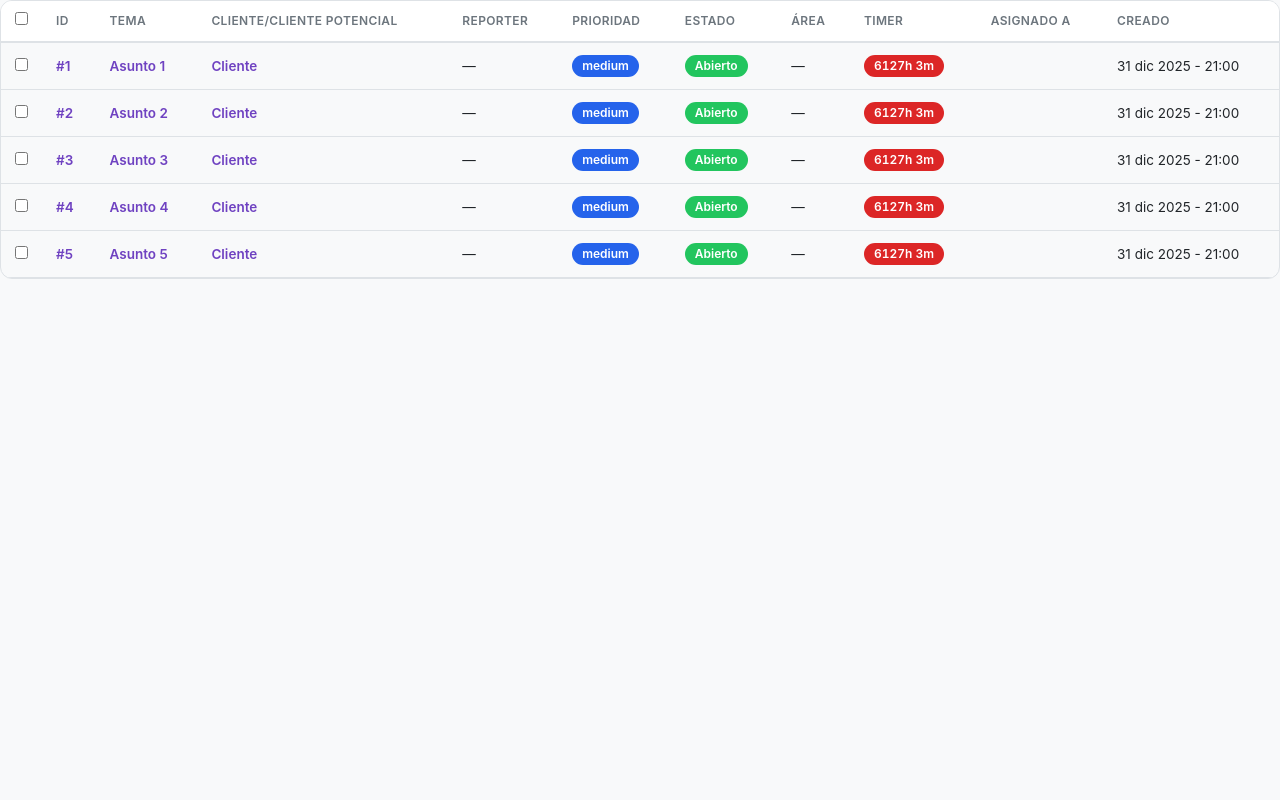
TicketsTableView — toast copy per action › Cambiar estado success → "N tickets actualizados"
Click the checkbox named "Seleccionar todos".
click(22, 18)  # box [15, 12, 28, 25]
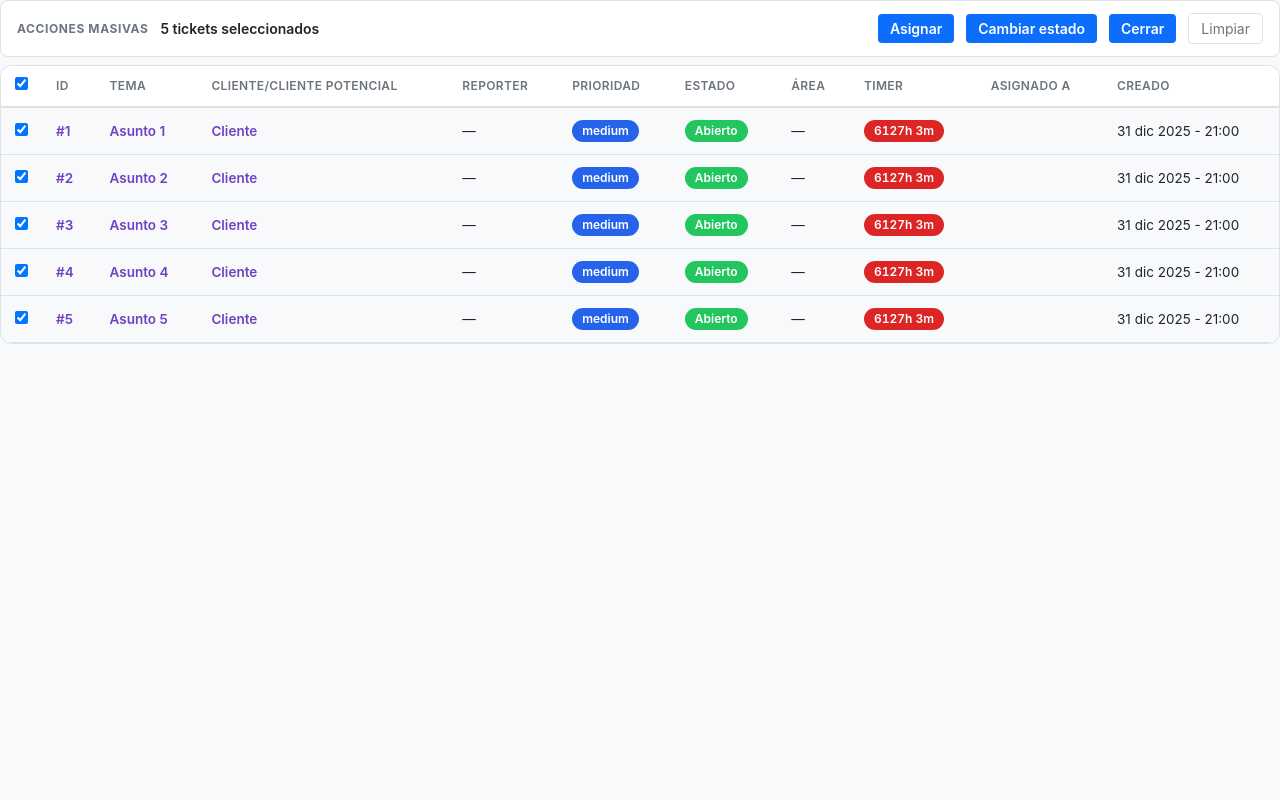
Click the button "Cambiar estado".
click(1032, 28)  # box [966, 14, 1097, 43]
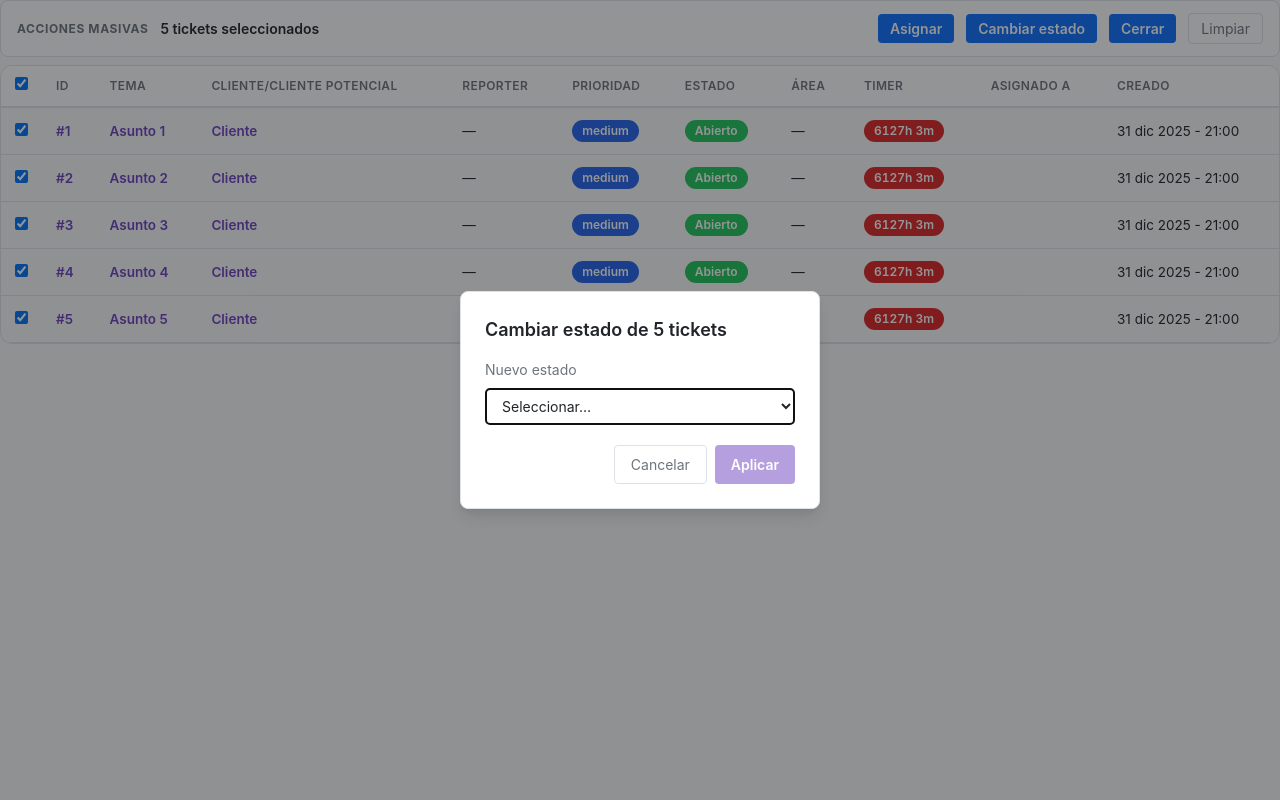
Select "Abierto" in the dropdown at (640, 406), box [485, 388, 795, 425]
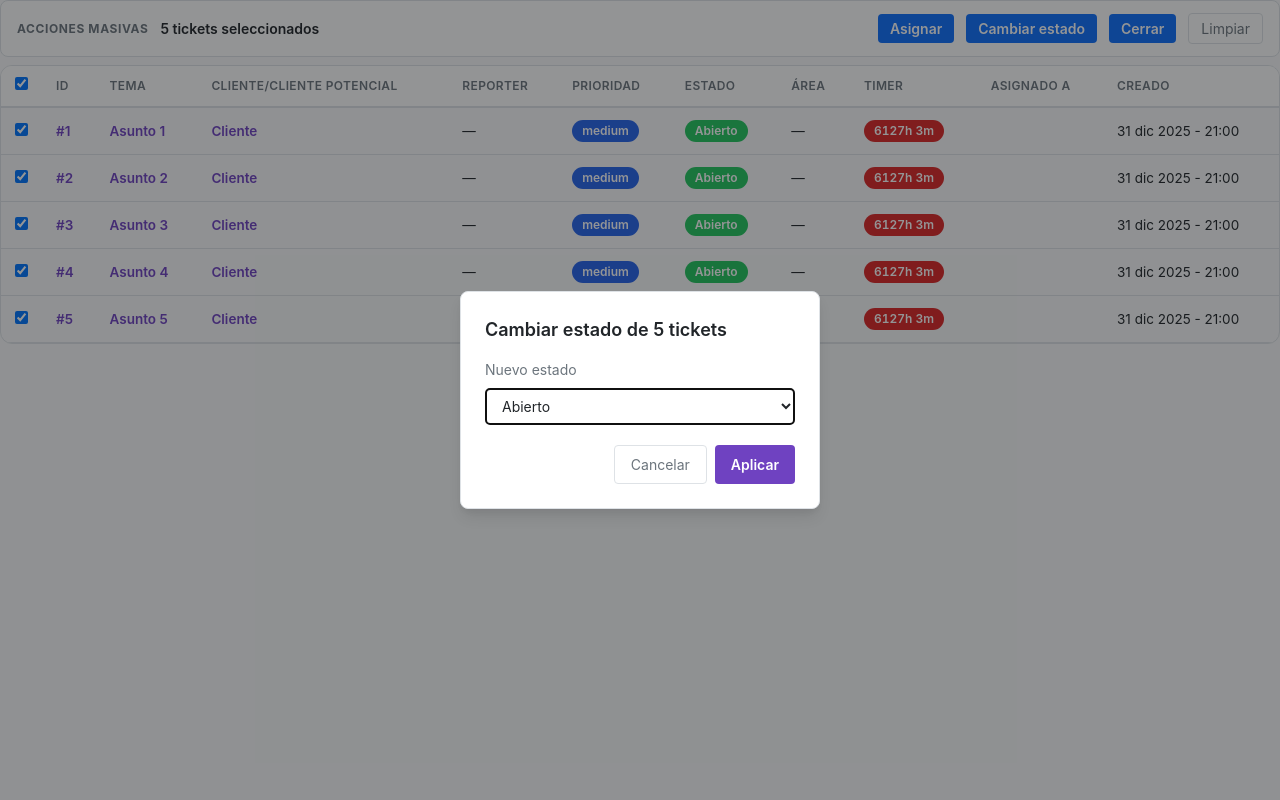
Click the button "Aplicar".
click(755, 464)  # box [715, 445, 795, 484]
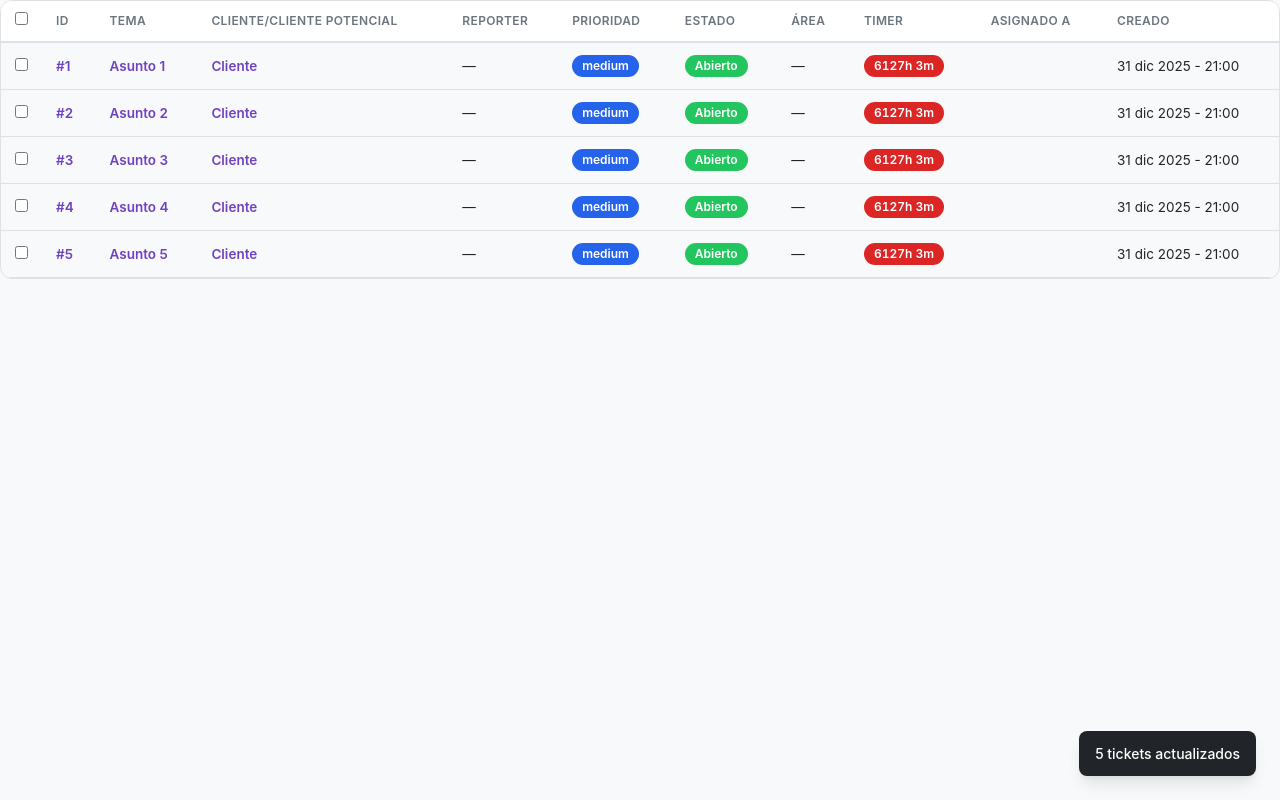
Expected: the text "5 tickets actualizados" is shown, [1079, 731, 1256, 776]
